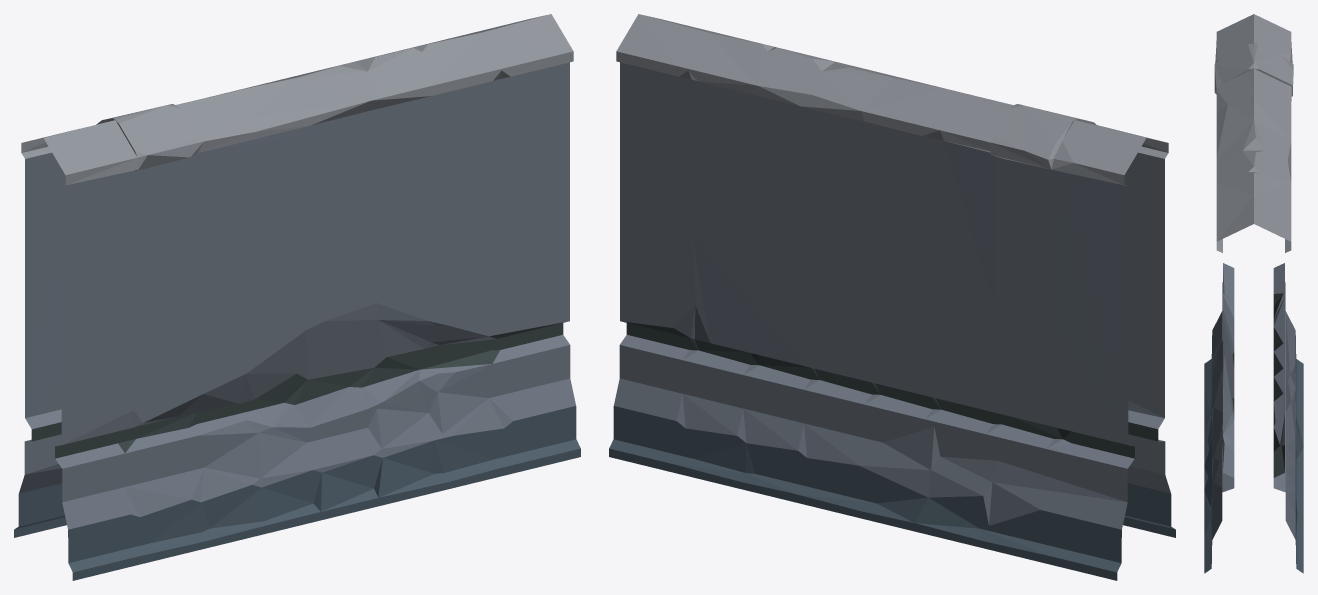
File: Wall2.fbx
The picture shows the model from 3 angles, left to right: view 1: azimuth 30°, elevation 25°; view 2: azimuth 150°, elevation 25°; view 3: azimuth 270°, elevation 25°; orthographic projection. The views are drawn at different scales.
Visible parts, largest first — view 1: Wall2; view 2: Wall2; view 3: Wall2.
Part boxes in pixels (x1,y1,x2,y2): Wall2: (14, 14, 580, 580); Wall2: (609, 14, 1175, 580); Wall2: (1204, 14, 1303, 573).
Bounding box in the file's own units: 600 × 479 × 120.
